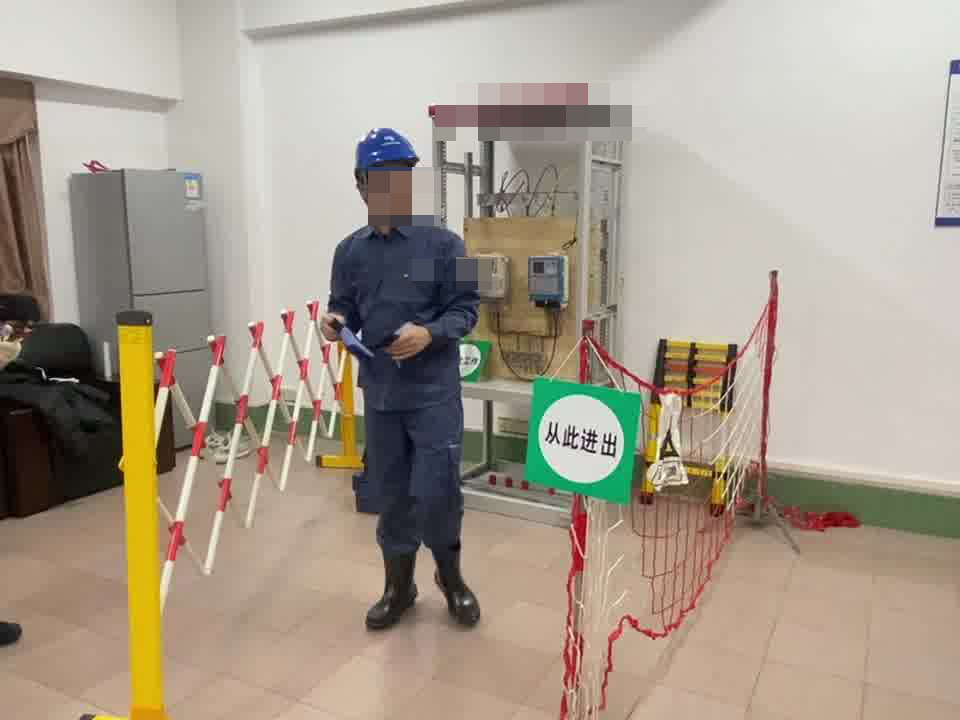downsuit: (358, 416, 467, 601)
halt: (351, 126, 424, 223)
hand: (388, 323, 432, 366), (318, 309, 347, 347)
inear: (346, 174, 382, 207)
intosign: (514, 366, 645, 511)
person: (322, 123, 486, 630)
shoe: (358, 545, 422, 631), (424, 542, 485, 625)
sleeve: (460, 255, 479, 284)
upsuit: (329, 216, 476, 392)
worksign: (455, 335, 493, 384)
